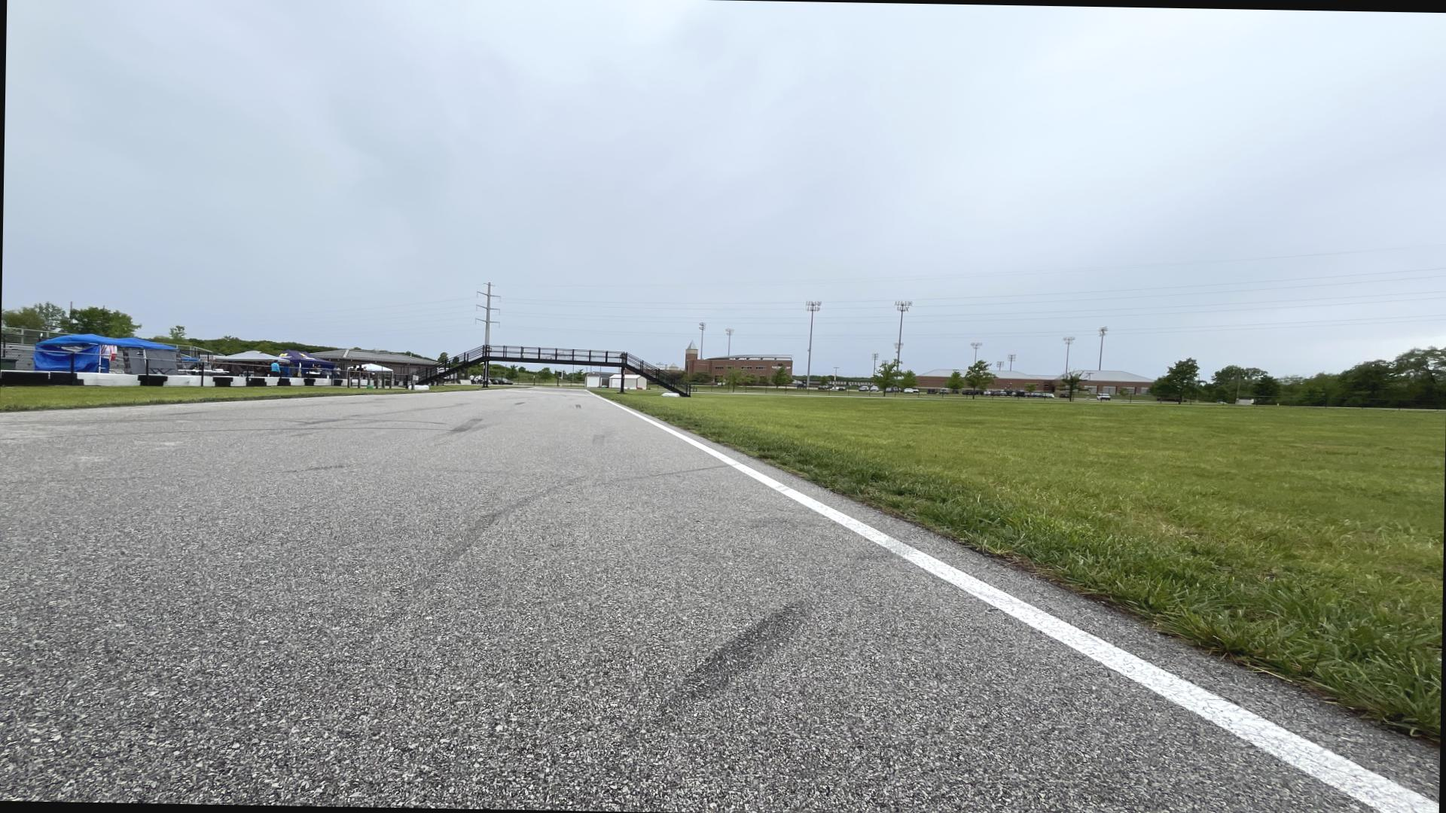white-line: (596, 397, 1438, 812), (217, 390, 488, 403), (165, 402, 191, 406), (0, 412, 35, 414), (584, 390, 593, 394), (498, 388, 516, 390), (148, 405, 159, 407)
